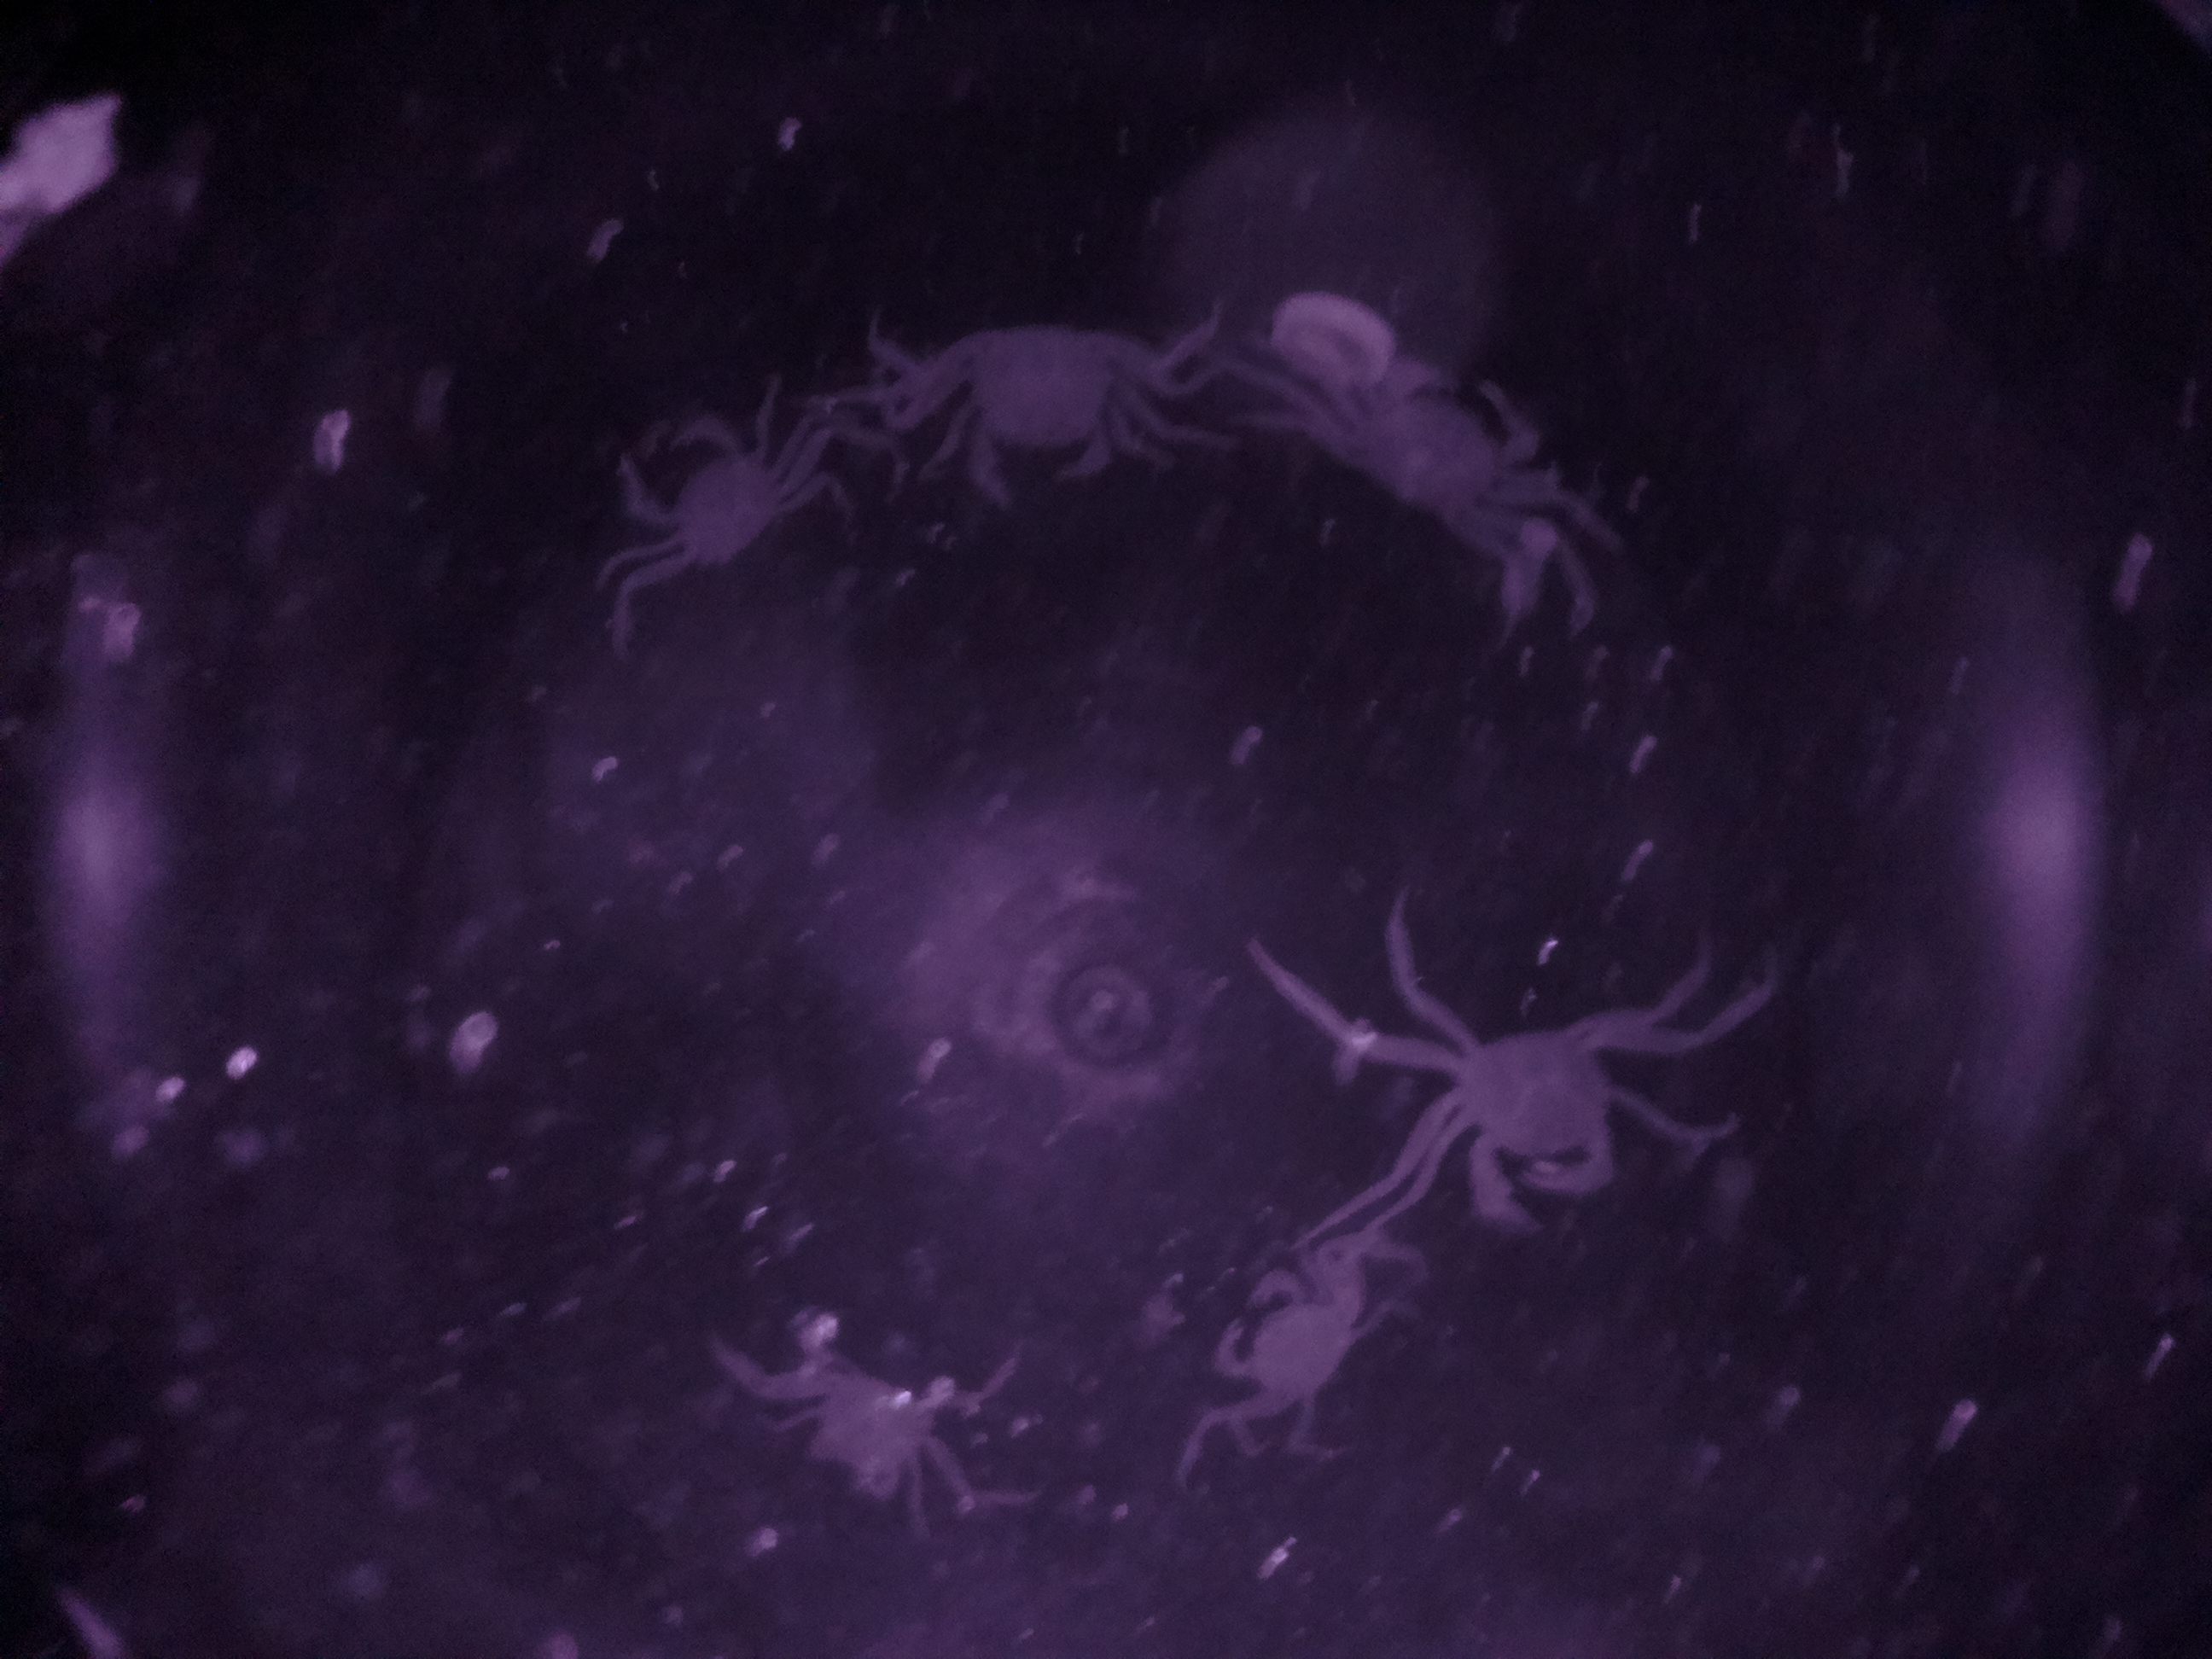Crab: (900, 291, 1216, 532), (1378, 990, 1676, 1244), (580, 394, 846, 627), (1299, 336, 1566, 563), (1183, 1234, 1406, 1453)
